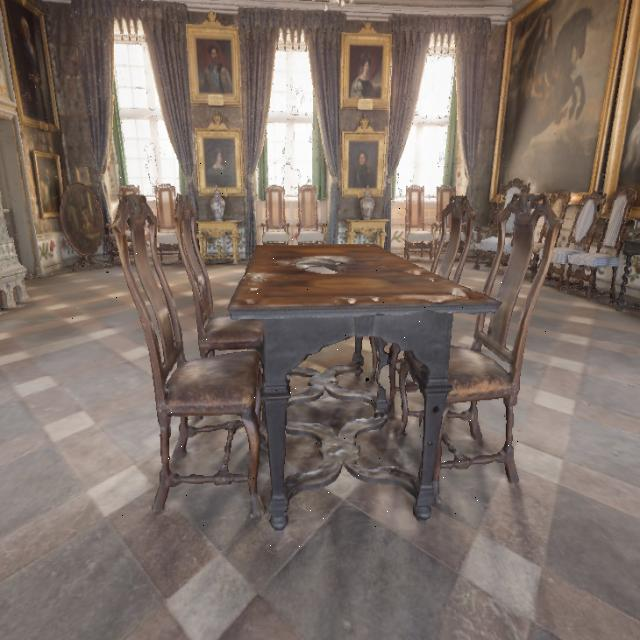chair: (108, 159, 279, 543), (378, 179, 575, 494), (156, 174, 274, 438)
table: (224, 218, 488, 553)
